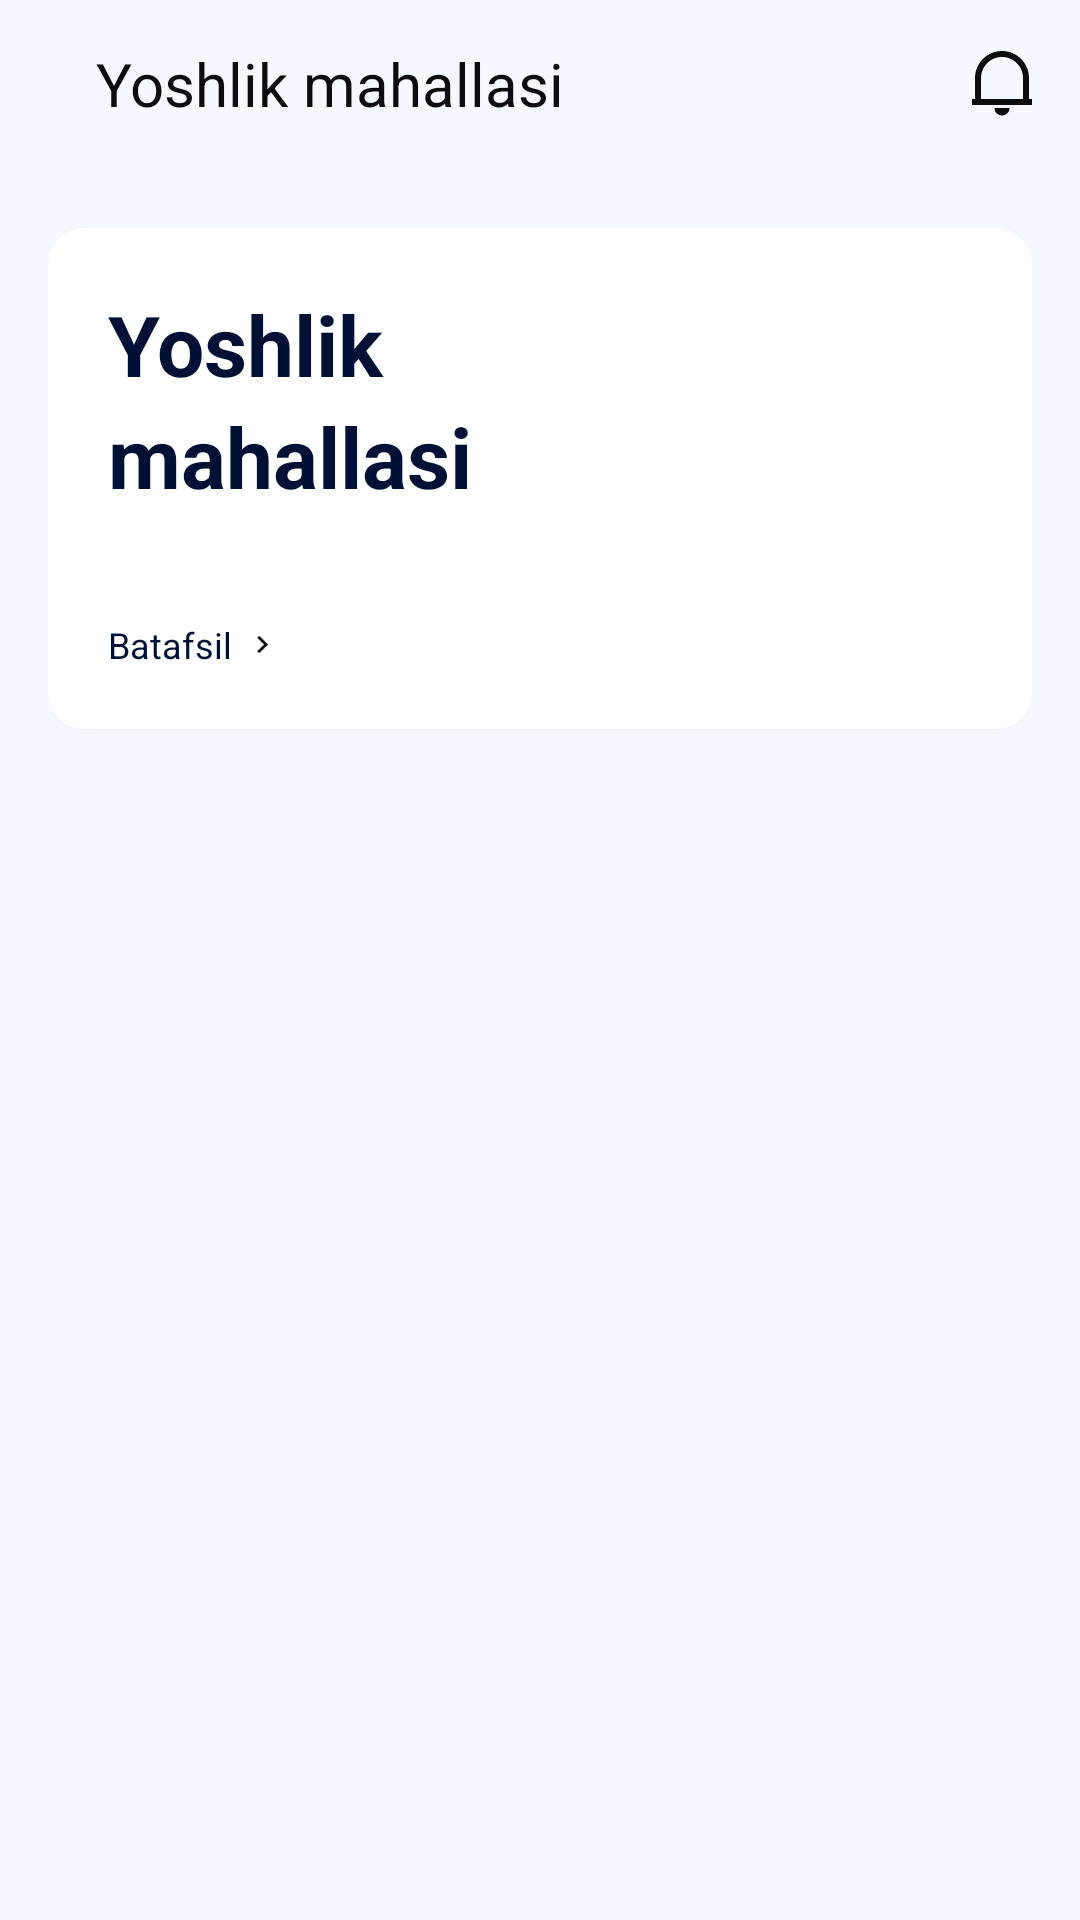

Screen size 1080px×1920px. Icon name, then its box in pixels as [x1, y1, x2, y2]:
notification: [972, 51, 1032, 116]
